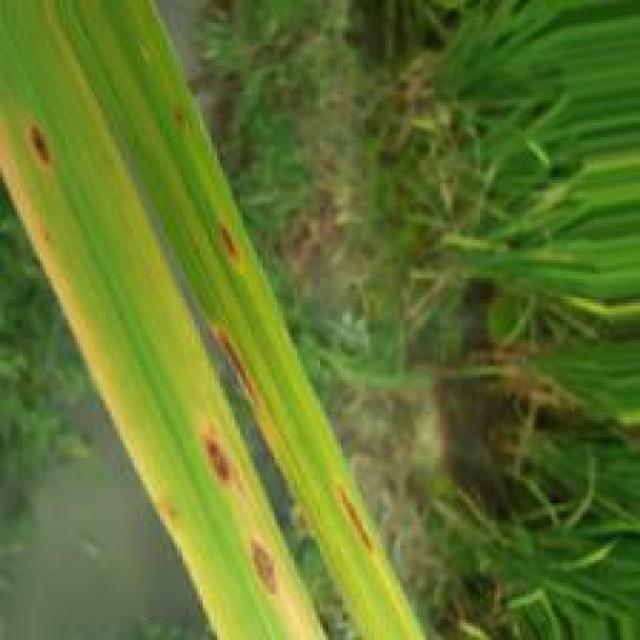Brown_Spot: (211, 329, 269, 413), (336, 486, 379, 558), (242, 534, 286, 603), (200, 420, 238, 492), (212, 221, 249, 272), (27, 118, 57, 171), (172, 101, 193, 130)
